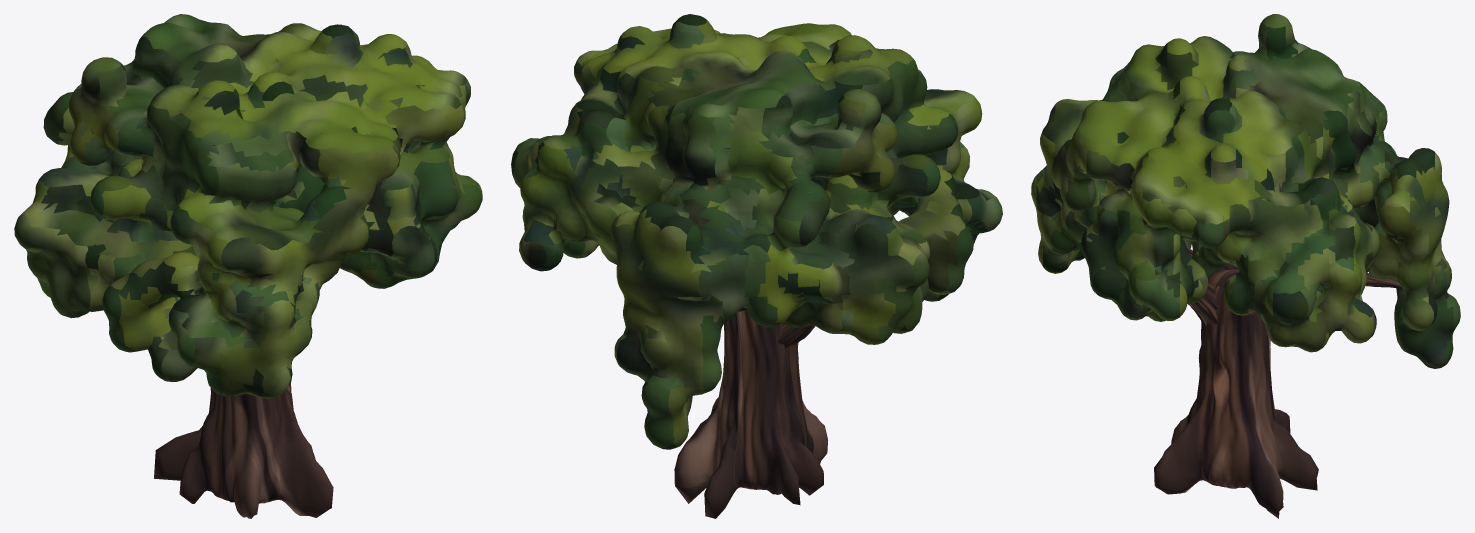
Rendered from HomeTreePlaceHolder.fbx.
The picture shows the model from 3 angles, left to right: view 1: azimuth 30°, elevation 25°; view 2: azimuth 150°, elevation 25°; view 3: azimuth 270°, elevation 25°; orthographic projection. The views are drawn at different scales.
Visible parts, largest first — view 1: Mball.448; view 2: Mball.448; view 3: Mball.448.
Part boxes in pixels (x1,y1,x2,y2): Mball.448: [14, 14, 482, 518]; Mball.448: [511, 14, 1002, 518]; Mball.448: [1031, 14, 1460, 518].
Size of the model in its own units: 2902 by 3055 by 2763.
